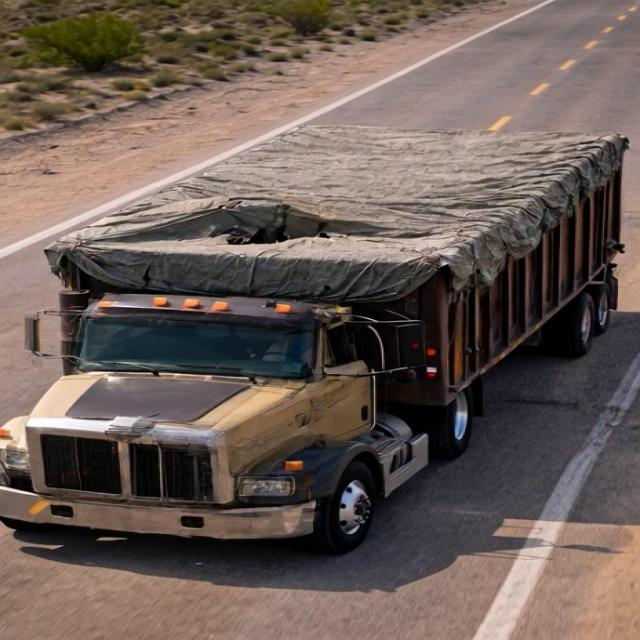trailer: (39, 118, 630, 282)
truck: (8, 97, 638, 566)
